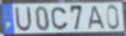0: (33, 5, 51, 32), (106, 4, 121, 31)
7: (69, 5, 84, 33)
A: (86, 5, 107, 30)
C: (50, 7, 70, 31)
U: (14, 6, 33, 33)
